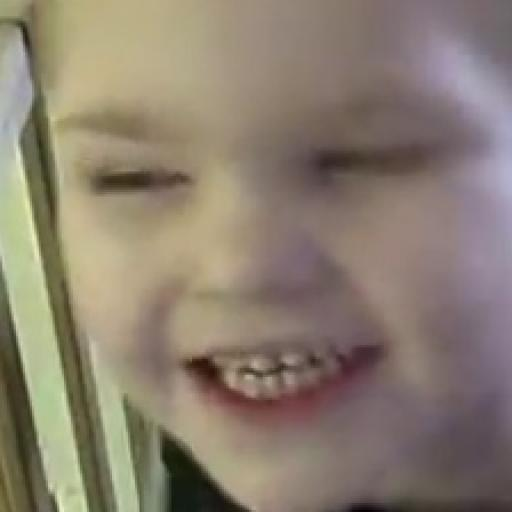Autism: (34, 36, 509, 512)
